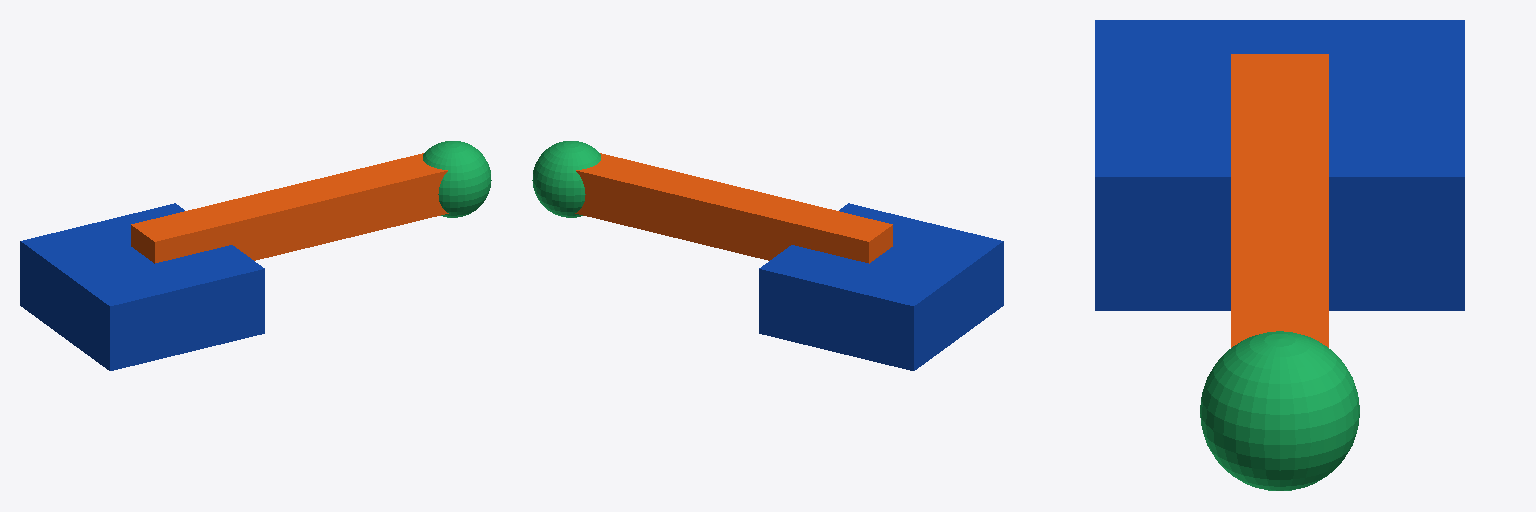
robot.urdf — joint_zero_demo:
<?xml version="1.0"?>
<robot name="joint_zero_demo">
  <!-- Set motor_joint's zero to 45 degrees: its 0..90 range becomes -45..45. -->
  <link name="base_link">
    <visual>
      <origin xyz="0 0 -0.06"/>
      <geometry><box size="0.3 0.3 0.12"/></geometry>
      <material name="blue"><color rgba="0.12 0.35 0.75 1"/></material>
    </visual>
  </link>
  <link name="arm_link">
    <visual>
      <origin xyz="0.3 0 0"/>
      <geometry><box size="0.6 0.08 0.08"/></geometry>
      <material name="orange"><color rgba="0.95 0.42 0.12 1"/></material>
    </visual>
    <collision>
      <origin xyz="0.3 0 0"/>
      <geometry><box size="0.6 0.08 0.08"/></geometry>
    </collision>
    <inertial>
      <origin xyz="0.3 0 0"/>
      <mass value="1"/>
      <inertia ixx="0.001067" ixy="0" ixz="0" iyy="0.030533" iyz="0" izz="0.030533"/>
    </inertial>
  </link>
  <joint name="motor_joint" type="revolute">
    <parent link="base_link"/>
    <child link="arm_link"/>
    <axis xyz="0 0 1"/>
    <limit lower="0" upper="1.5707963267948966" effort="20" velocity="2"/>
  </joint>
  <link name="tip_link">
    <visual>
      <geometry><sphere radius="0.065"/></geometry>
      <material name="green"><color rgba="0.18 0.72 0.42 1"/></material>
    </visual>
  </link>
  <joint name="tip_slide" type="prismatic">
    <origin xyz="0.6 0 0"/>
    <parent link="arm_link"/>
    <child link="tip_link"/>
    <axis xyz="1 0 0"/>
    <limit lower="0" upper="0.2" effort="5" velocity="0.5"/>
  </joint>
</robot>

--- What the picture shows (computed from the rendered views, not written in the file) ---
Views: 3 orthographic renders of the robot side by side, from view 1: azimuth 30°, elevation 25°; view 2: azimuth 150°, elevation 25°; view 3: azimuth 270°, elevation 25°.
Model joint_zero_demo with 3 links and 2 joints (1 revolute, 1 prismatic), rooted at base_link, posed all joints at 0.
Links seen in each view (by area): view 1: base_link, arm_link, tip_link; view 2: base_link, arm_link, tip_link; view 3: base_link, arm_link, tip_link.
Link boxes in pixels (<box>): base_link: <box>20,203,264,370</box>; arm_link: <box>131,153,448,263</box>; tip_link: <box>423,141,491,217</box>; base_link: <box>759,203,1003,370</box>; arm_link: <box>575,153,892,263</box>; tip_link: <box>532,141,600,217</box>; base_link: <box>1095,20,1464,310</box>; arm_link: <box>1231,54,1328,347</box>; tip_link: <box>1200,331,1359,490</box>.
Size in the robot's own frame: 0.815 by 0.3 by 0.185 metres.
Geometry: primitives only (box / cylinder / sphere), no mesh files.
